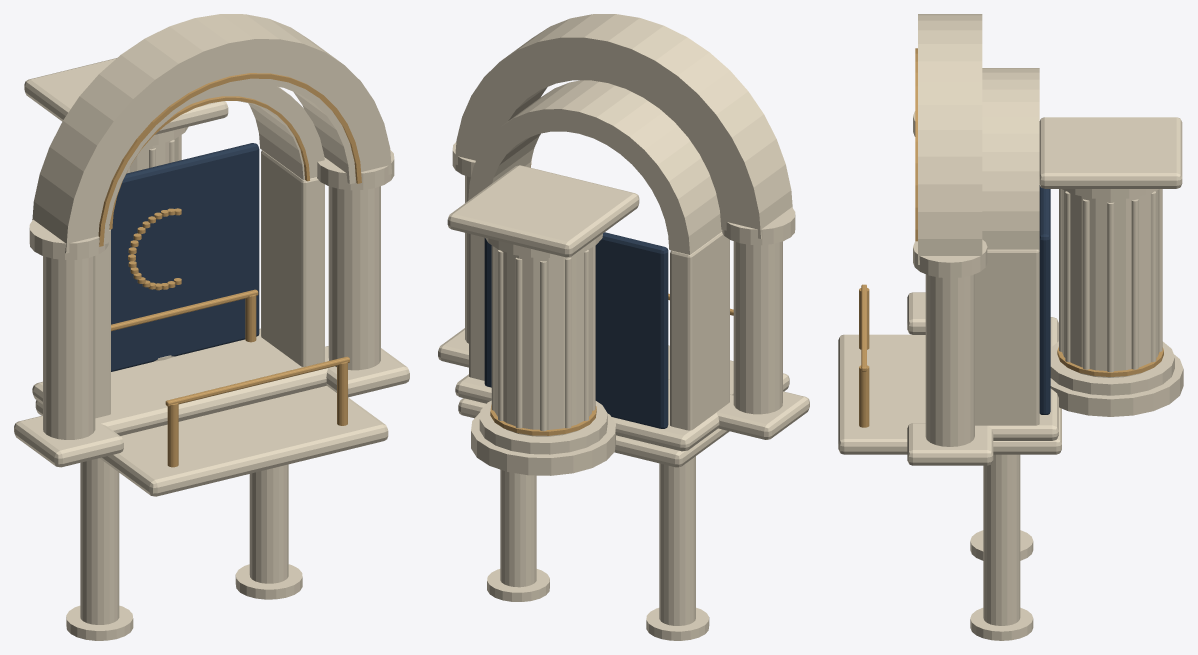
The model's file is world40-spatial-landmarks-v1.glb.
The picture shows the model from 3 angles, left to right: view 1: azimuth 30°, elevation 25°; view 2: azimuth 150°, elevation 25°; view 3: azimuth 270°, elevation 25°; orthographic projection. The views are drawn at different scales.
Visible parts, largest first — view 1: theatre-zone-arch - Theatre landmark warm plaster, theatre-zone-niche - Theatre landmark warm plaster, theatre-zone-upper - Theatre landmark warm plaster, theatre-zone-niche - Theatre niche midnight, theatre-zone-pillar - Theatre landmark warm plaster, theatre-zone-upper - Theatre landmark brass, theatre-zone-arch - Theatre landmark brass, theatre-zone-niche - Theatre landmark brass; view 2: theatre-zone-arch - Theatre landmark warm plaster, theatre-zone-pillar - Theatre landmark warm plaster, theatre-zone-niche - Theatre landmark warm plaster, theatre-zone-upper - Theatre landmark warm plaster, theatre-zone-niche - Theatre niche midnight, theatre-zone-pillar - Theatre landmark brass; view 3: theatre-zone-pillar - Theatre landmark warm plaster, theatre-zone-arch - Theatre landmark warm plaster, theatre-zone-niche - Theatre landmark warm plaster, theatre-zone-upper - Theatre landmark warm plaster, theatre-zone-niche - Theatre niche midnight, theatre-zone-upper - Theatre landmark brass, theatre-zone-pillar - Theatre landmark brass, theatre-zone-arch - Theatre landmark brass.
Boxes of the visible parts, x1,y1,x2,y2 form: theatre-zone-arch - Theatre landmark warm plaster: [14, 14, 409, 467]; theatre-zone-niche - Theatre landmark warm plaster: [32, 84, 327, 435]; theatre-zone-upper - Theatre landmark warm plaster: [35, 385, 388, 640]; theatre-zone-niche - Theatre niche midnight: [111, 143, 259, 371]; theatre-zone-pillar - Theatre landmark warm plaster: [24, 58, 228, 361]; theatre-zone-upper - Theatre landmark brass: [111, 289, 349, 467]; theatre-zone-arch - Theatre landmark brass: [98, 73, 361, 246]; theatre-zone-niche - Theatre landmark brass: [109, 96, 309, 290]; theatre-zone-arch - Theatre landmark warm plaster: [438, 14, 809, 439]; theatre-zone-pillar - Theatre landmark warm plaster: [447, 165, 639, 475]; theatre-zone-niche - Theatre landmark warm plaster: [455, 80, 732, 451]; theatre-zone-upper - Theatre landmark warm plaster: [458, 345, 789, 640]; theatre-zone-niche - Theatre niche midnight: [484, 232, 668, 428]; theatre-zone-pillar - Theatre landmark brass: [490, 404, 596, 435]; theatre-zone-pillar - Theatre landmark warm plaster: [1039, 117, 1183, 416]; theatre-zone-arch - Theatre landmark warm plaster: [907, 14, 993, 465]; theatre-zone-niche - Theatre landmark warm plaster: [975, 68, 1058, 440]; theatre-zone-upper - Theatre landmark warm plaster: [838, 334, 1061, 640]; theatre-zone-niche - Theatre niche midnight: [1039, 185, 1050, 414]; theatre-zone-upper - Theatre landmark brass: [859, 284, 869, 427]; theatre-zone-pillar - Theatre landmark brass: [1057, 347, 1163, 376]; theatre-zone-arch - Theatre landmark brass: [915, 48, 917, 241].
Size of the model in its own units: 6.7 by 10.75 by 6.02.
